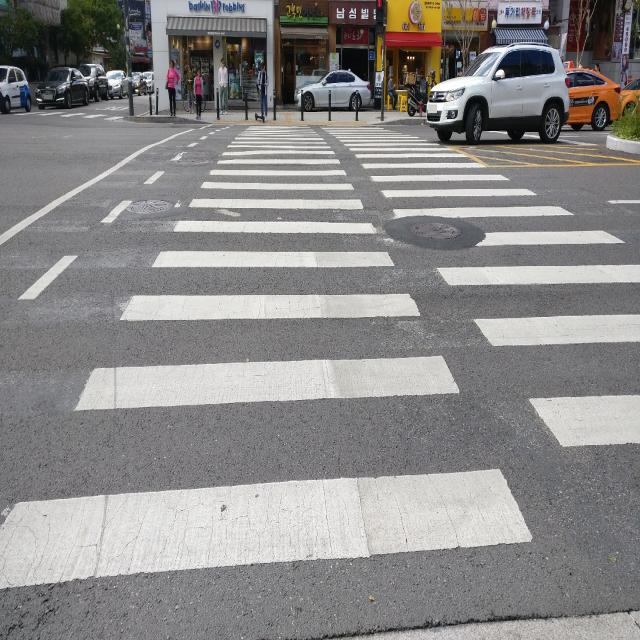빨간불: (374, 0, 389, 36)
횡단보도: (0, 122, 640, 597)
